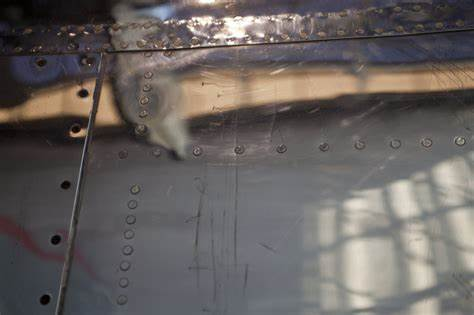hole: (39, 292, 53, 307), (48, 233, 64, 246), (59, 179, 73, 192), (77, 88, 89, 99), (36, 58, 48, 68), (70, 124, 82, 134)
screw: (353, 139, 368, 151), (134, 124, 148, 136), (116, 293, 130, 305), (419, 137, 434, 148), (118, 276, 131, 288), (452, 136, 466, 147), (317, 142, 331, 153), (275, 143, 289, 154), (119, 260, 131, 271), (123, 229, 135, 240), (126, 214, 138, 225), (127, 199, 139, 210), (151, 147, 162, 158), (130, 185, 142, 195), (390, 139, 402, 149), (191, 147, 203, 157), (119, 149, 129, 160), (123, 245, 134, 255), (234, 145, 245, 155), (139, 97, 149, 106), (138, 110, 148, 119), (144, 71, 154, 79), (143, 85, 152, 93)
